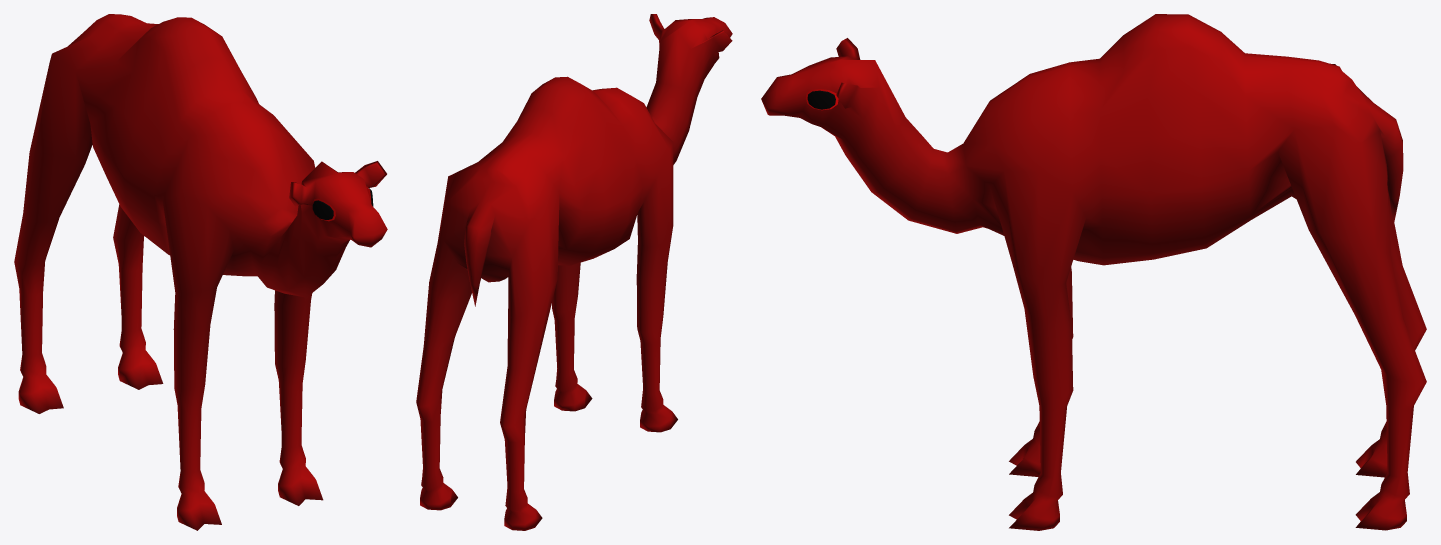
File: Animals_Camel.fbx
3 views of the same model, side by side, from view 1: azimuth 30°, elevation 25°; view 2: azimuth 150°, elevation 25°; view 3: azimuth 270°, elevation 25° (orthographic). The views are drawn at different scales.
Parts seen in each view (by area): view 1: base; view 2: base; view 3: base.
Part boxes in pixels (x1=…): base: x1=14, y1=14, x2=387, y2=530; base: x1=416, y1=14, x2=732, y2=530; base: x1=761, y1=14, x2=1426, y2=530.
Bounding box in the file's own units: 94.2 × 275 × 347.
